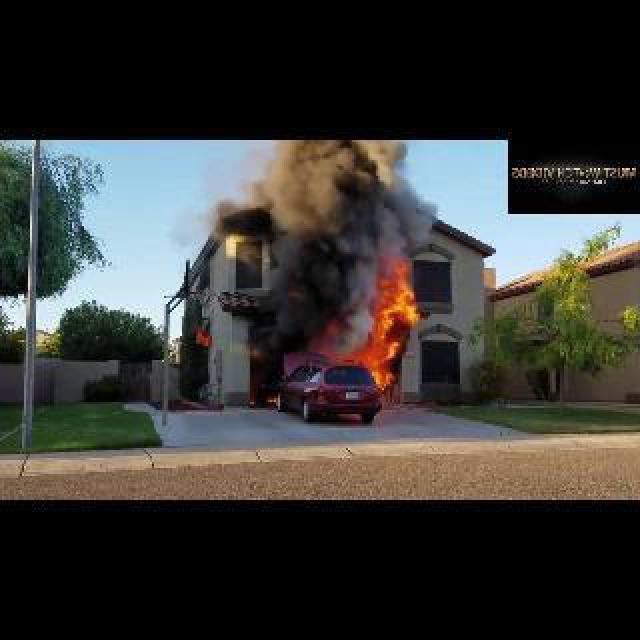Fire: (360, 258, 424, 386), (192, 324, 216, 350)
Smoke: (218, 142, 356, 352), (358, 140, 436, 260)
